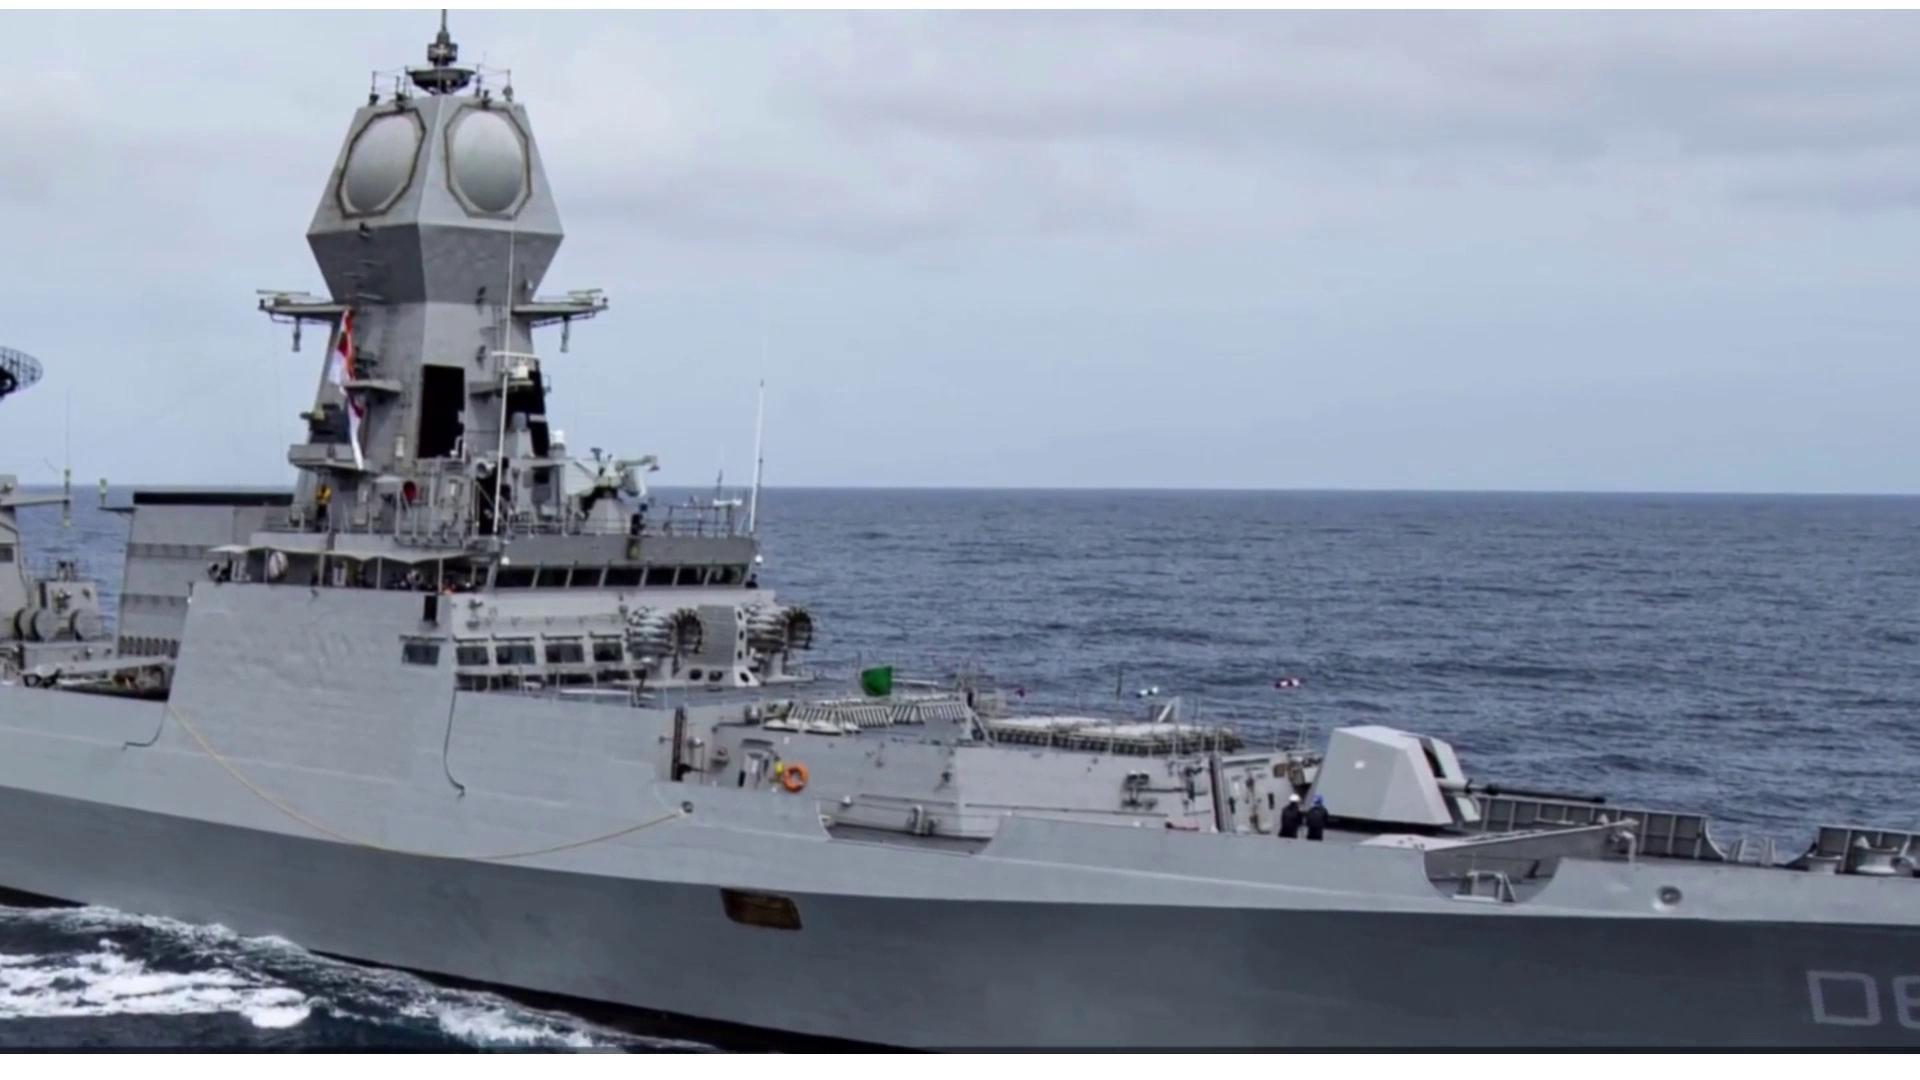OCR: (1792, 967, 1920, 1040)
